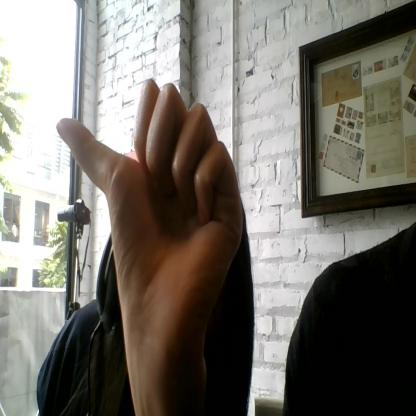right: (56, 80, 243, 312)
